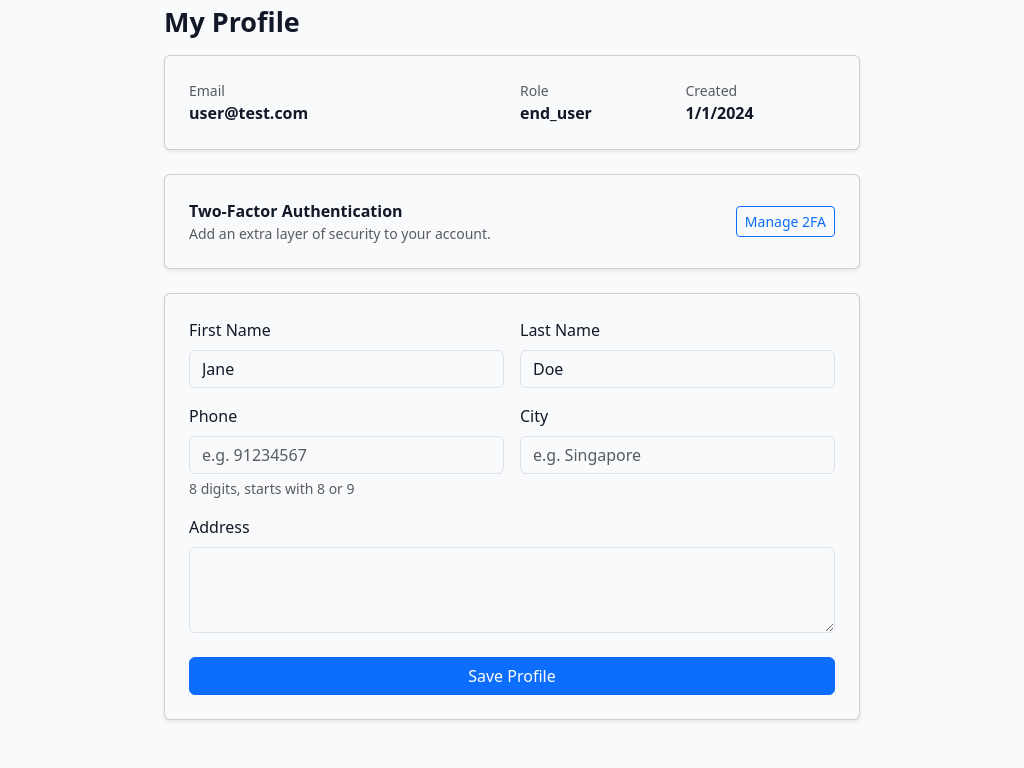
Test: ProfilePage › shows error alert when save fails
(page scrolled)
Click the button "Save Profile" at (512, 676), box [189, 656, 835, 694]
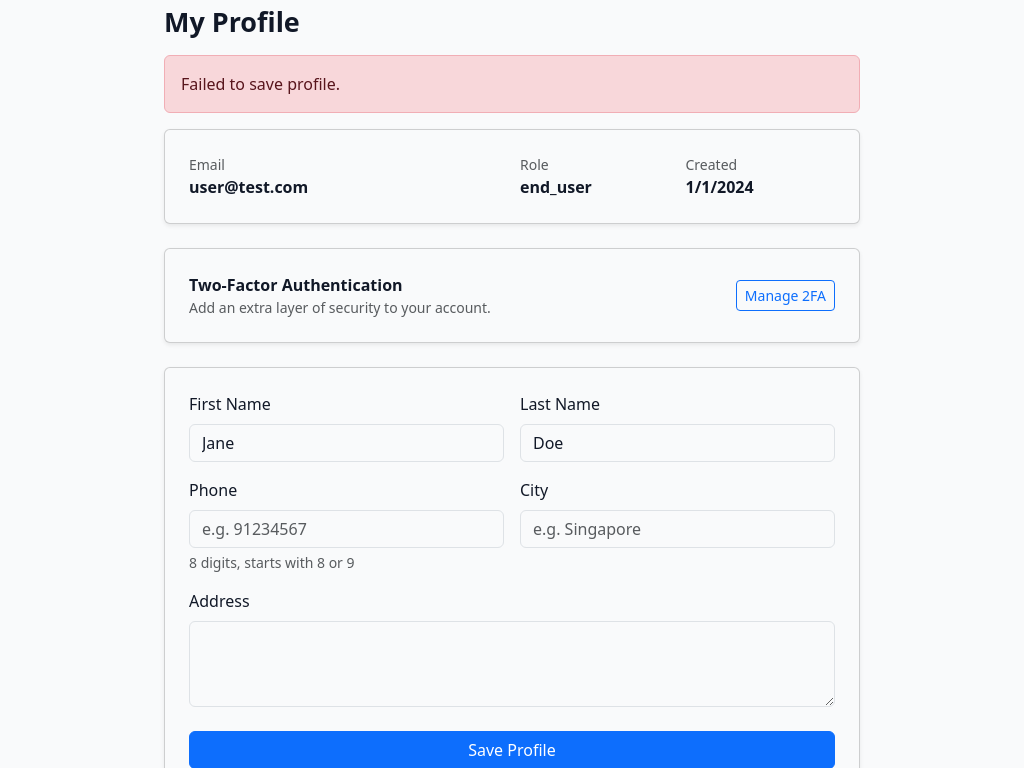
Expected: the text "Failed to save profile." is shown, [164, 54, 860, 112]
